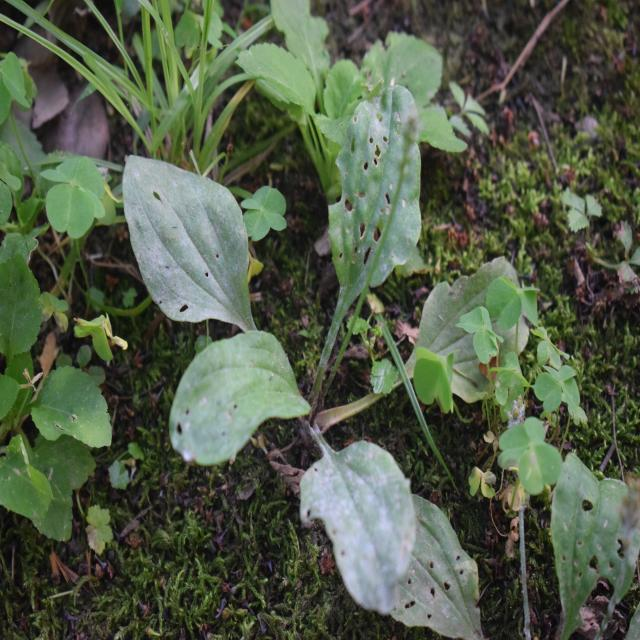plantain: (151, 70, 473, 524)
